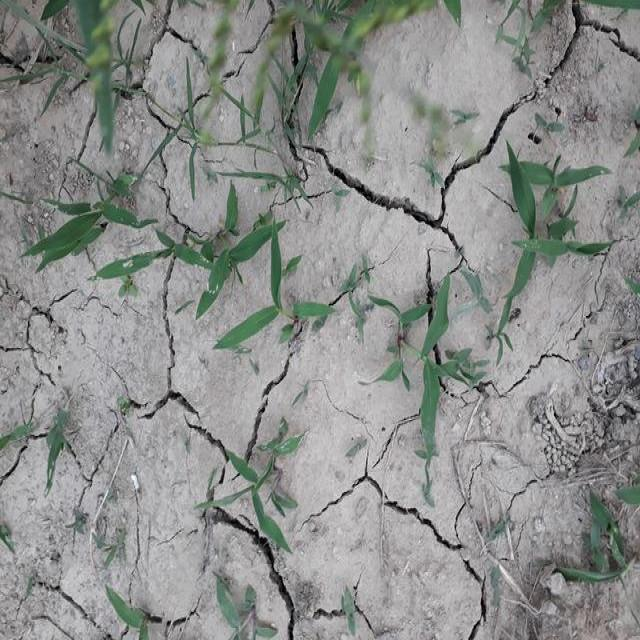weed: (81, 178, 323, 352), (495, 138, 626, 325), (361, 256, 478, 462), (247, 0, 422, 117), (28, 0, 137, 152), (206, 426, 307, 554), (555, 480, 634, 588), (160, 63, 207, 200), (4, 422, 82, 486), (205, 575, 275, 640), (509, 5, 554, 84), (95, 585, 153, 640), (110, 387, 142, 445), (444, 100, 481, 136), (414, 466, 442, 510), (335, 264, 364, 306), (484, 571, 508, 618), (332, 584, 360, 624), (486, 514, 512, 555), (621, 100, 640, 152), (94, 531, 125, 562), (530, 116, 562, 143), (419, 160, 447, 188), (440, 0, 471, 24), (66, 508, 83, 542), (1, 512, 10, 565), (348, 441, 369, 461), (294, 379, 312, 402)
